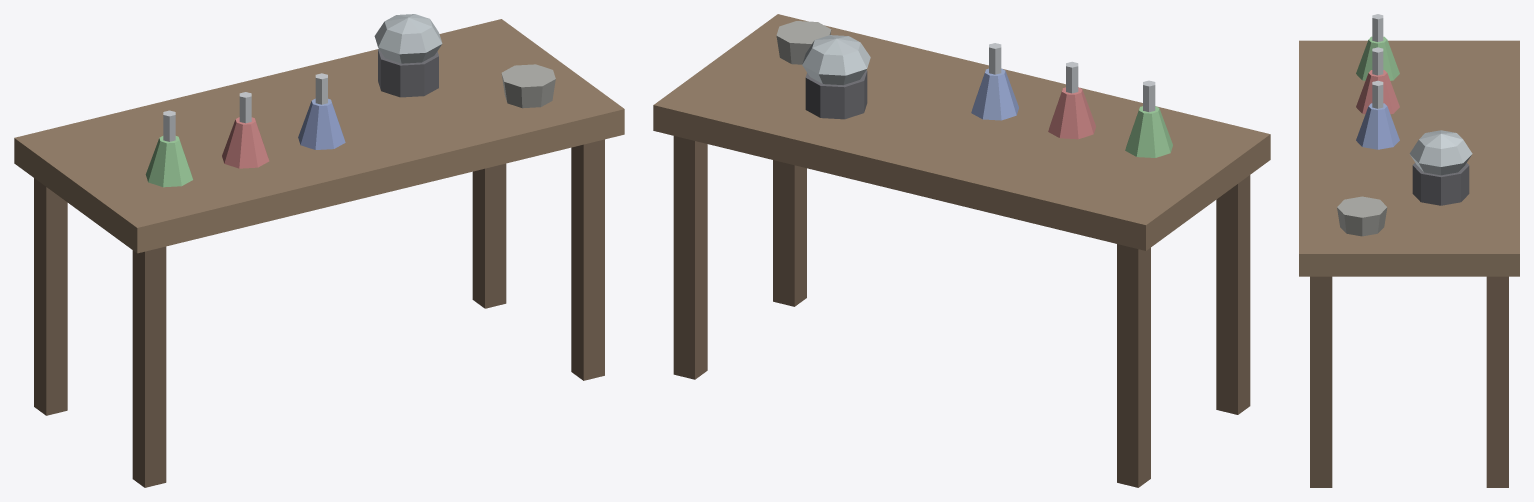
Rendered from alchemy_bench.glb.
3 views of the same model, side by side, from view 1: azimuth 30°, elevation 25°; view 2: azimuth 150°, elevation 25°; view 3: azimuth 270°, elevation 25° (orthographic). The views are drawn at different scales.
Visible parts, largest first — view 1: ../props/alchemy_bench; view 2: ../props/alchemy_bench; view 3: ../props/alchemy_bench.
Boxes of the visible parts, bbox=[...] form: ../props/alchemy_bench: bbox=[14, 14, 624, 487]; ../props/alchemy_bench: bbox=[653, 14, 1270, 487]; ../props/alchemy_bench: bbox=[1299, 14, 1519, 487].
Size of the model in its own units: 1.6 by 1.05 by 0.7.
